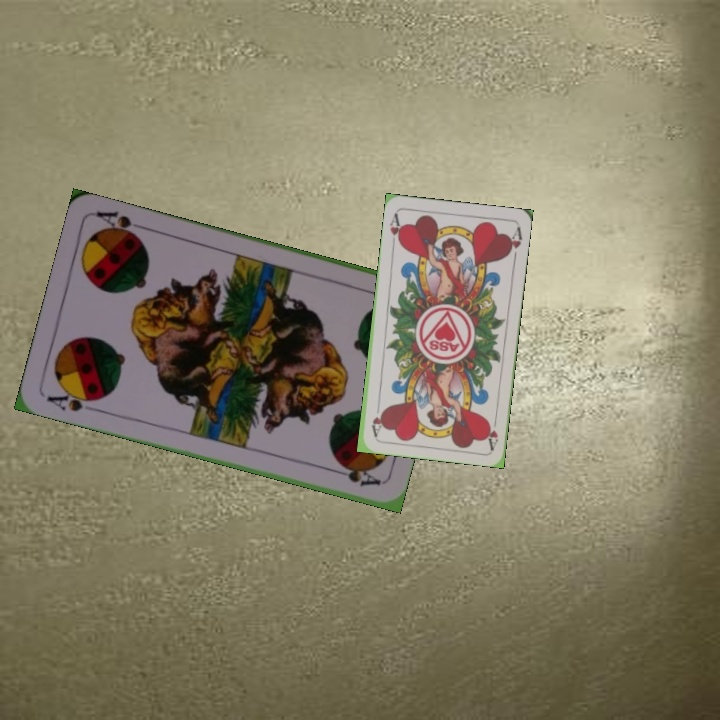HA: (386, 209, 405, 250), (483, 410, 500, 451)
SA: (43, 385, 103, 414)
